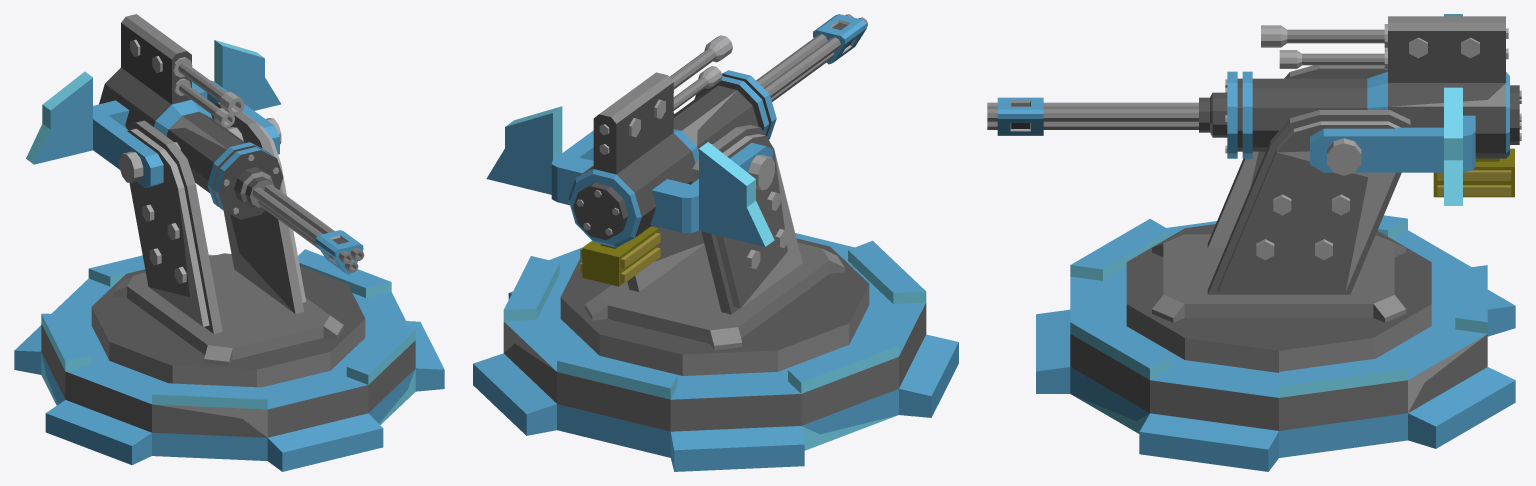
Rendered from tower_minigun_blue_3.fbx.
3 views of the same model, side by side, from view 1: azimuth 30°, elevation 25°; view 2: azimuth 150°, elevation 25°; view 3: azimuth 270°, elevation 25° (orthographic). The views are drawn at different scales.
Visible parts, largest first — view 1: top_minigun_blue_3, tower_minigun_blue_3; view 2: top_minigun_blue_3, tower_minigun_blue_3; view 3: top_minigun_blue_3, tower_minigun_blue_3.
Part boxes in pixels (x1,y1,x2,y2): top_minigun_blue_3: (26,14,365,387); tower_minigun_blue_3: (14,249,444,471); top_minigun_blue_3: (486,14,869,375); tower_minigun_blue_3: (473,233,958,471); top_minigun_blue_3: (987,14,1521,372); tower_minigun_blue_3: (1036,215,1515,471).
Bounding box in the file's own units: 167 × 126 × 177.
